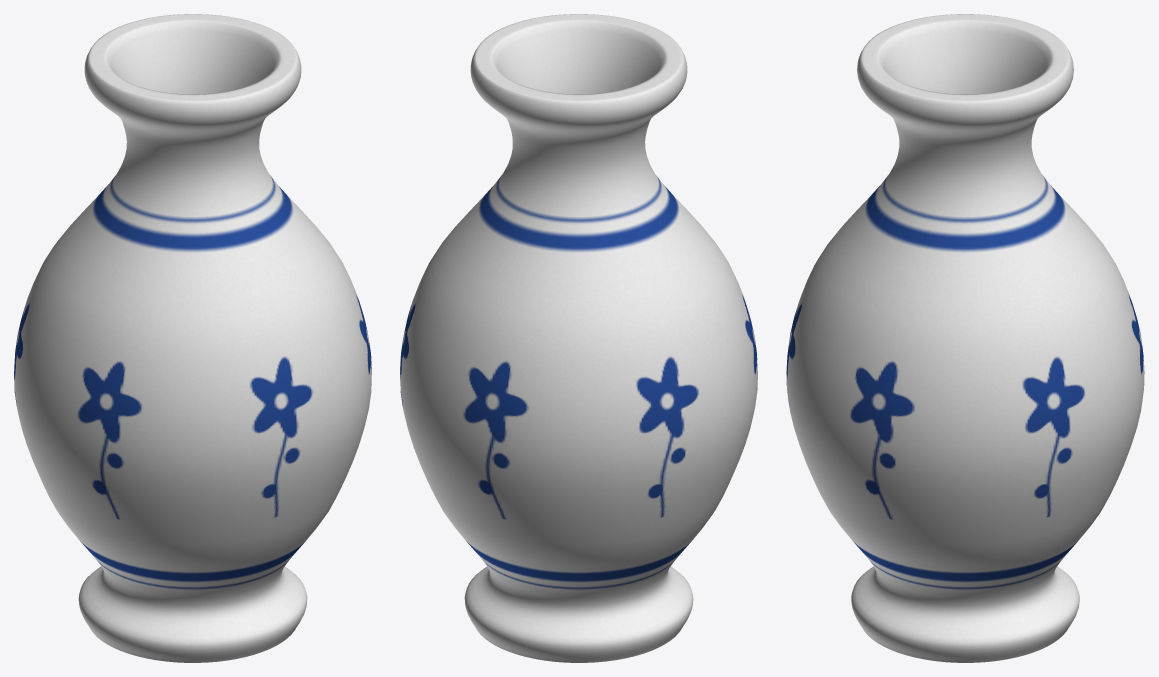
The model's file is decorative-vase.glb.
The picture shows the model from 3 angles, left to right: view 1: azimuth 30°, elevation 25°; view 2: azimuth 150°, elevation 25°; view 3: azimuth 270°, elevation 25°; orthographic projection.
Parts seen in each view (by area): view 1: decorative-vase; view 2: decorative-vase; view 3: decorative-vase.
Part boxes in pixels (x1,y1,x2,y2): decorative-vase: [14, 14, 371, 662]; decorative-vase: [400, 14, 757, 662]; decorative-vase: [786, 14, 1144, 662].
Bounding box in the file's own units: 0.22 × 0.38 × 0.22.
1 material, 1 textured.
